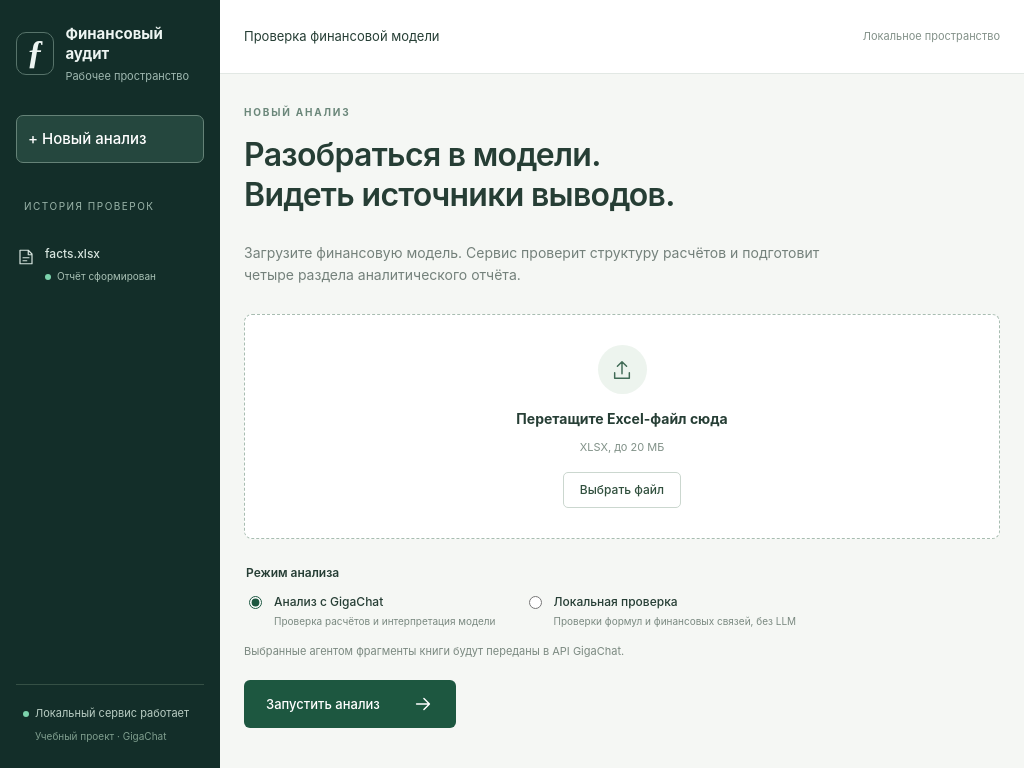
Test case: value and period fact links load their actual cells into the existing drawer
Click the button "facts.xlsx Отчёт сформирован": click(110, 264) [8,231,212,298]
(page scrolled)
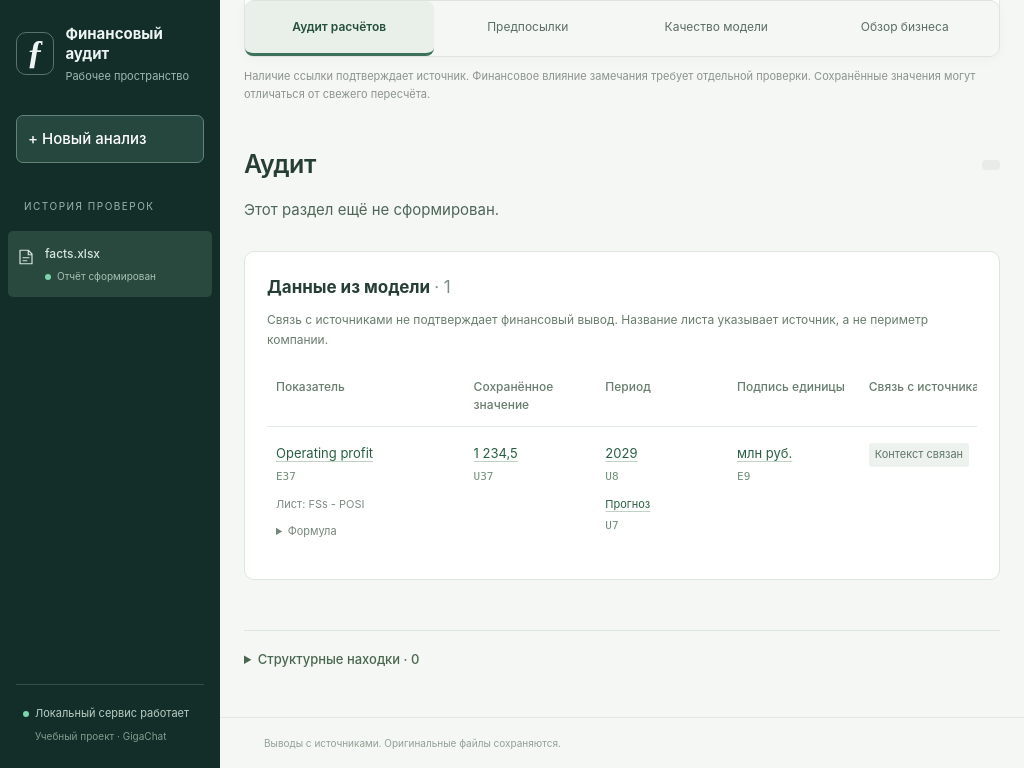
Click the button named "Сохранённое значение:": click(496, 465) [474,443,518,486]
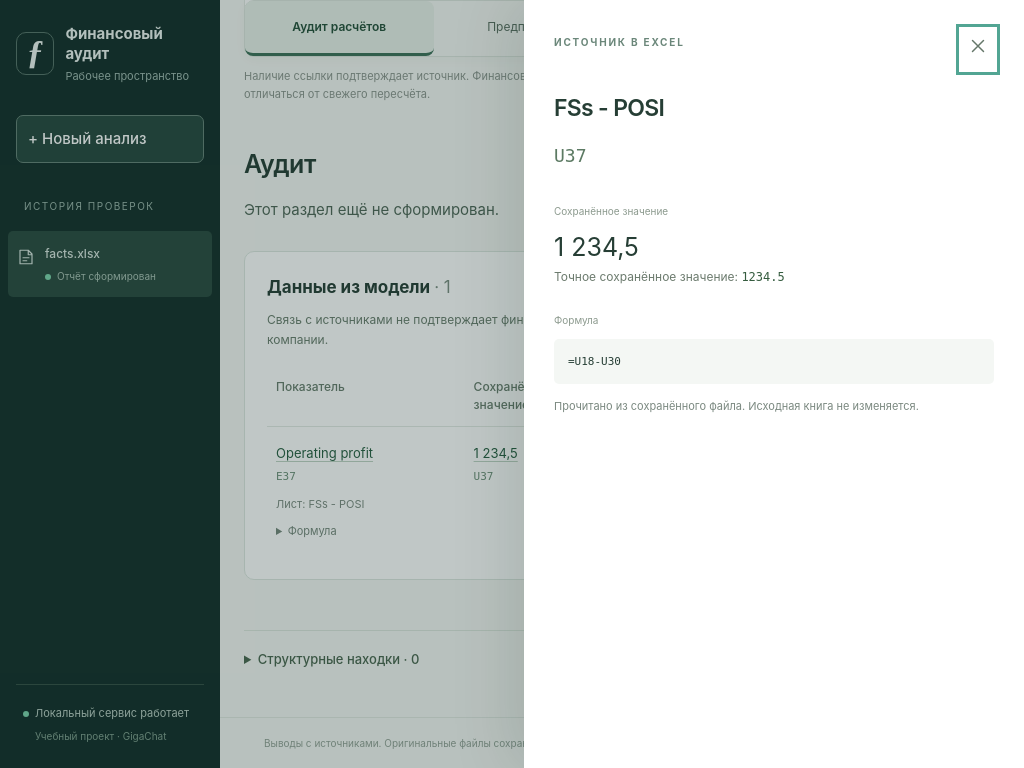
Now the text "=U18-U30" is shown, box [554,339,994,384]
Now the text "U37" is shown, box [554,145,586,166]
Click the button named "Закрыть источник": click(978, 50) [962,30,994,69]
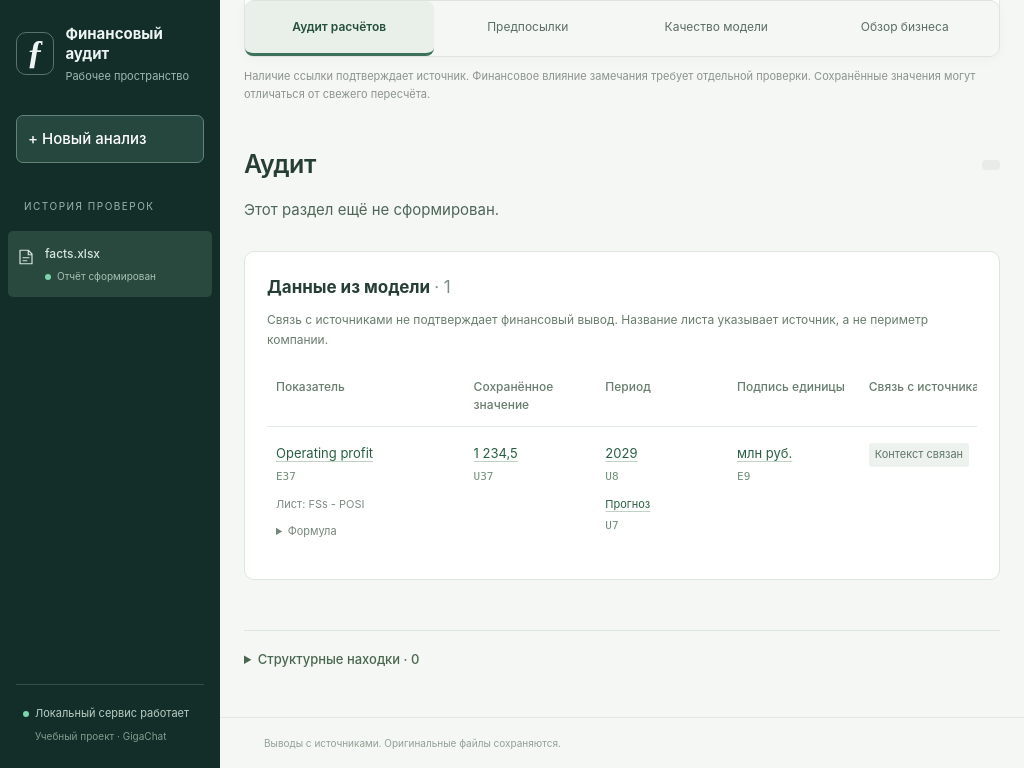
Click the button named "Период:": click(621, 465) [605,443,637,486]
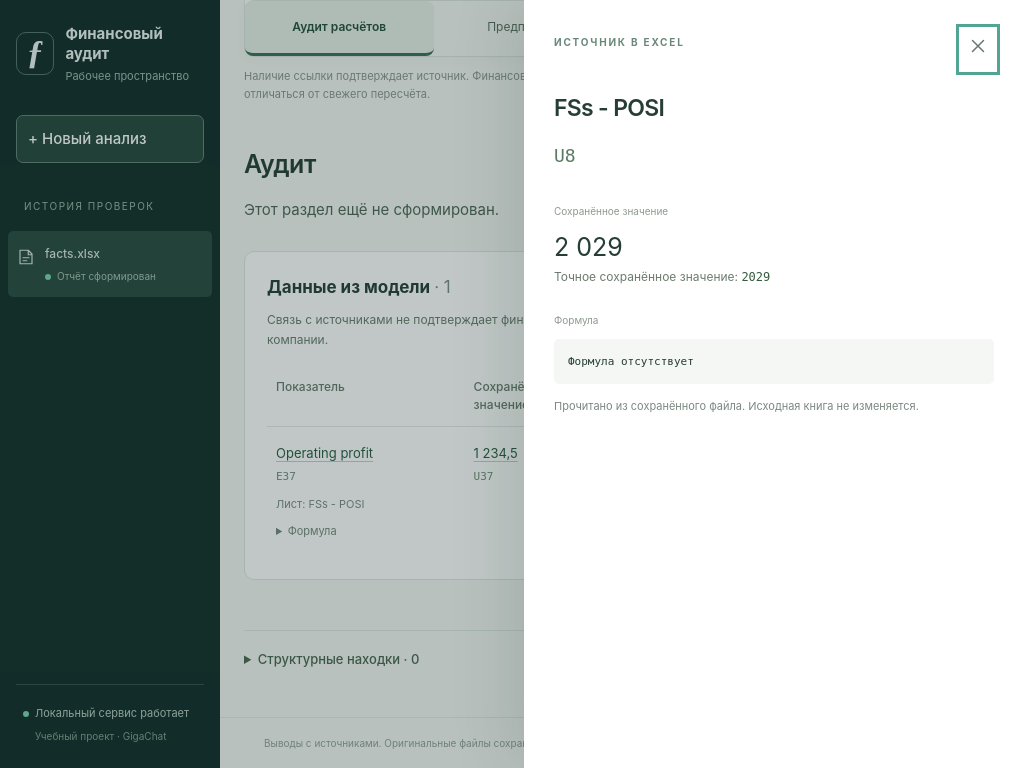
Now the text "U8" is shown, box [554,145,576,166]
